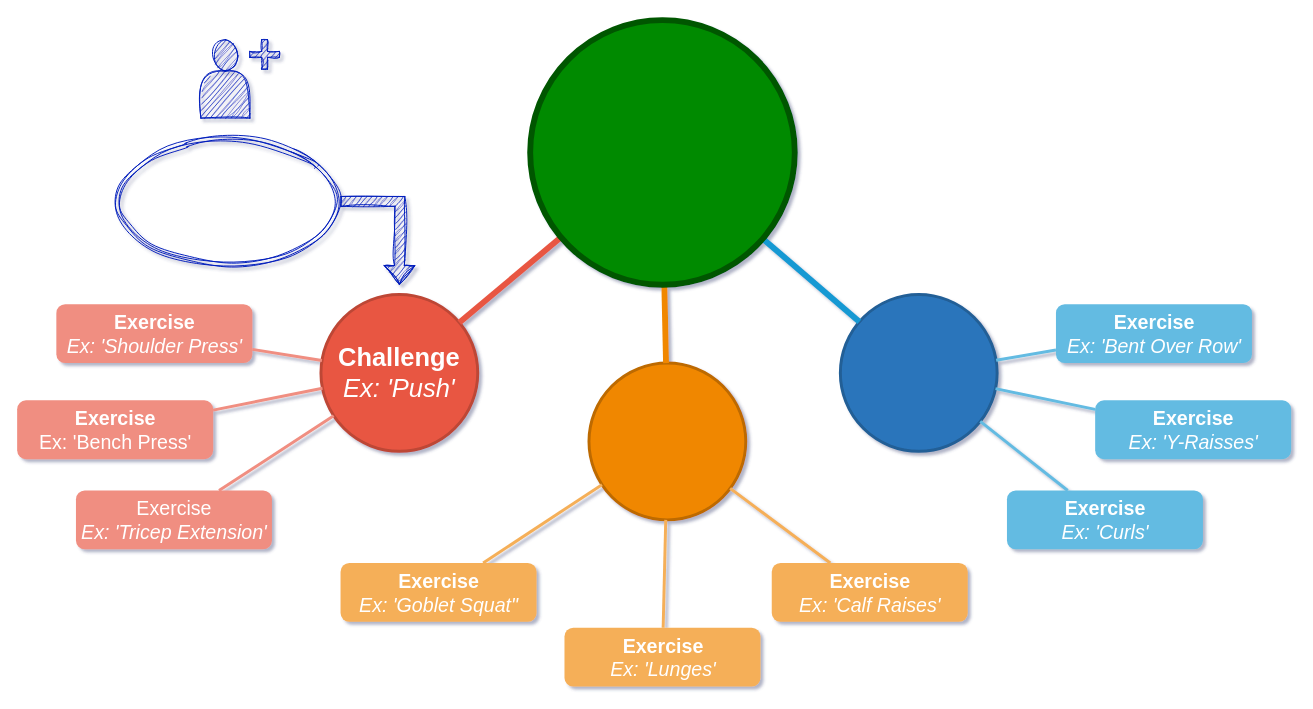
Some shapes in this 1313 by 709 pixel diagram are drawn without their labels. The shapes that lost their labels are listed below. From the top down, each one's box as (x1, y1, x2, y2) in pixels, then its label:
(527, 17, 797, 287): PATH Ex: 'Dumbbell Pro'
(114, 137, 341, 265): Complete CHALLENGES to earn points and level up!
(838, 293, 998, 452): Challenge Ex: 'Pull'
(587, 361, 747, 521): Challenge Ex: 'Legs'
